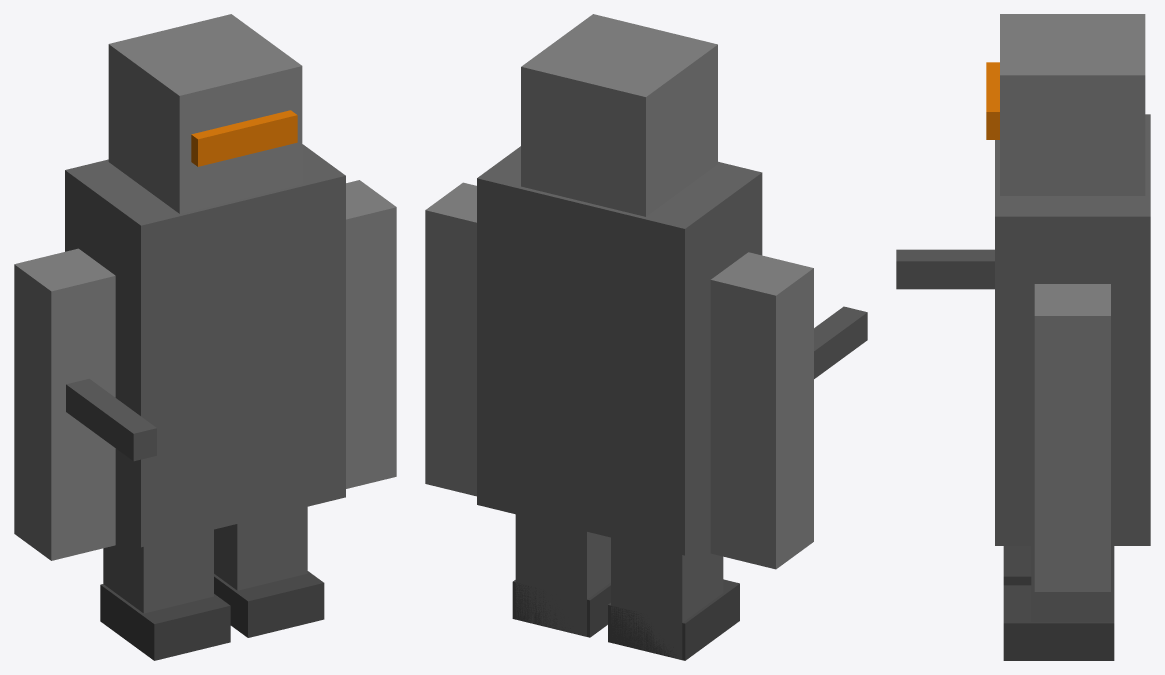
The model's file is bot.glb.
3 renders of one model, left to right at view 1: azimuth 30°, elevation 25°; view 2: azimuth 150°, elevation 25°; view 3: azimuth 270°, elevation 25°, orthographic. The views are drawn at different scales.
Visible parts, largest first — view 1: body, head, arm_l, arm_r, leg_l, leg_r, boot_l, boot_r, gun, visor; view 2: body, head, arm_l, arm_r, leg_l, leg_r, boot_l, gun, boot_r; view 3: body, head, arm_r, boot_r, gun, leg_r, boot_l, visor.
Boxes of the visible parts, left/top/right/bottom form: body: left=65, top=144, right=345, bottom=547; head: left=108, top=14, right=302, bottom=213; arm_l: left=14, top=248, right=115, bottom=560; arm_r: left=346, top=180, right=396, bottom=488; leg_l: left=103, top=529, right=213, bottom=613; leg_r: left=214, top=507, right=307, bottom=590; boot_l: left=100, top=584, right=230, bottom=660; boot_r: left=214, top=571, right=324, bottom=637; gun: left=66, top=378, right=156, bottom=461; visor: left=191, top=110, right=297, bottom=166; body: left=477, top=146, right=762, bottom=555; head: left=521, top=14, right=717, bottom=216; arm_l: left=710, top=252, right=813, bottom=569; arm_r: left=425, top=182, right=476, bottom=496; leg_l: left=611, top=537, right=723, bottom=659; leg_r: left=515, top=514, right=610, bottom=636; boot_l: left=608, top=579, right=739, bottom=660; gun: left=814, top=306, right=867, bottom=378; boot_r: left=512, top=580, right=610, bottom=637; body: left=995, top=114, right=1150, bottom=545; head: left=1000, top=14, right=1145, bottom=195; arm_r: left=1034, top=284, right=1110, bottom=591; boot_r: left=1003, top=585, right=1114, bottom=660; gun: left=896, top=249, right=994, bottom=289; leg_r: left=1031, top=546, right=1114, bottom=621; boot_l: left=1003, top=546, right=1031, bottom=585; visor: left=986, top=62, right=999, bottom=139.
Size of the model in its own units: 1.18 by 1.83 by 0.735.
